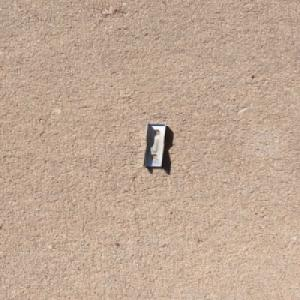ClampPart: (141, 120, 170, 168)
